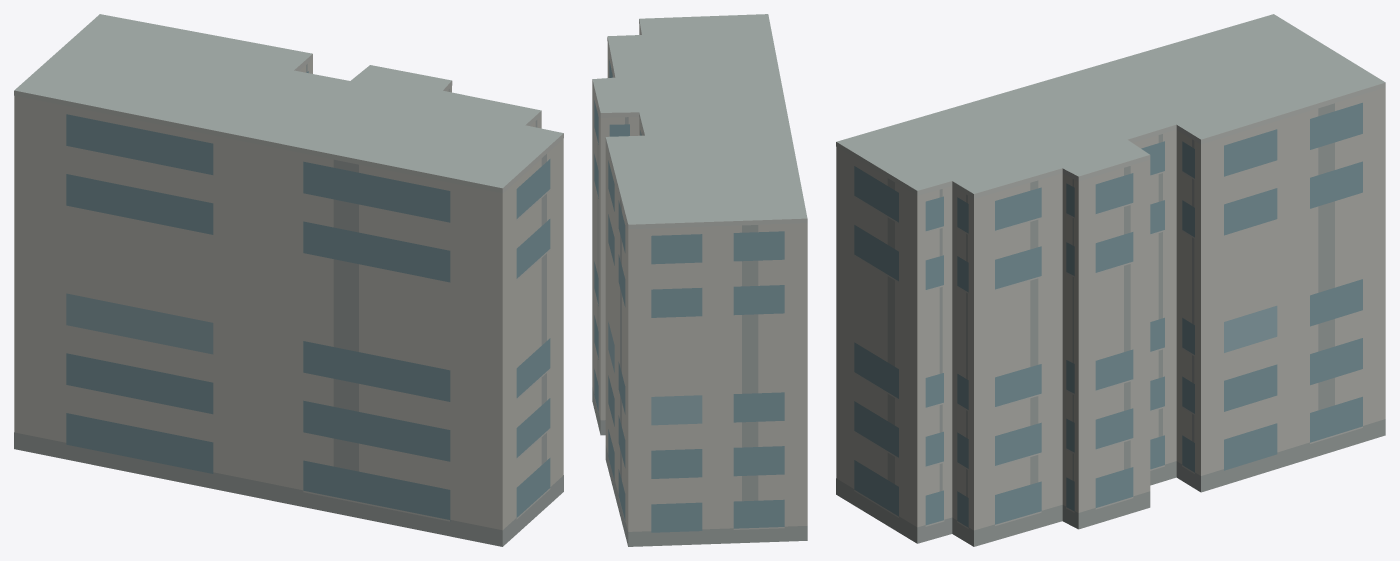
The model's file is survey-upis-33016804.glb.
The picture shows the model from 3 angles, left to right: view 1: azimuth 30°, elevation 25°; view 2: azimuth 150°, elevation 25°; view 3: azimuth 270°, elevation 25°; orthographic projection. The views are drawn at different scales.
Parts seen in each view (by area): view 1: survey-upis-33016804.tmp; view 2: survey-upis-33016804.tmp; view 3: survey-upis-33016804.tmp.
Boxes of the visible parts, x1,y1,x2,y2 form: survey-upis-33016804.tmp: (14, 14, 563, 546); survey-upis-33016804.tmp: (592, 14, 807, 546); survey-upis-33016804.tmp: (836, 14, 1385, 546).
Bounding box in the file's own units: 18.62 × 17 × 24.01.
